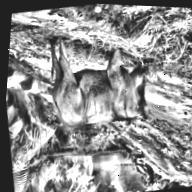boar: (41, 38, 171, 151)
